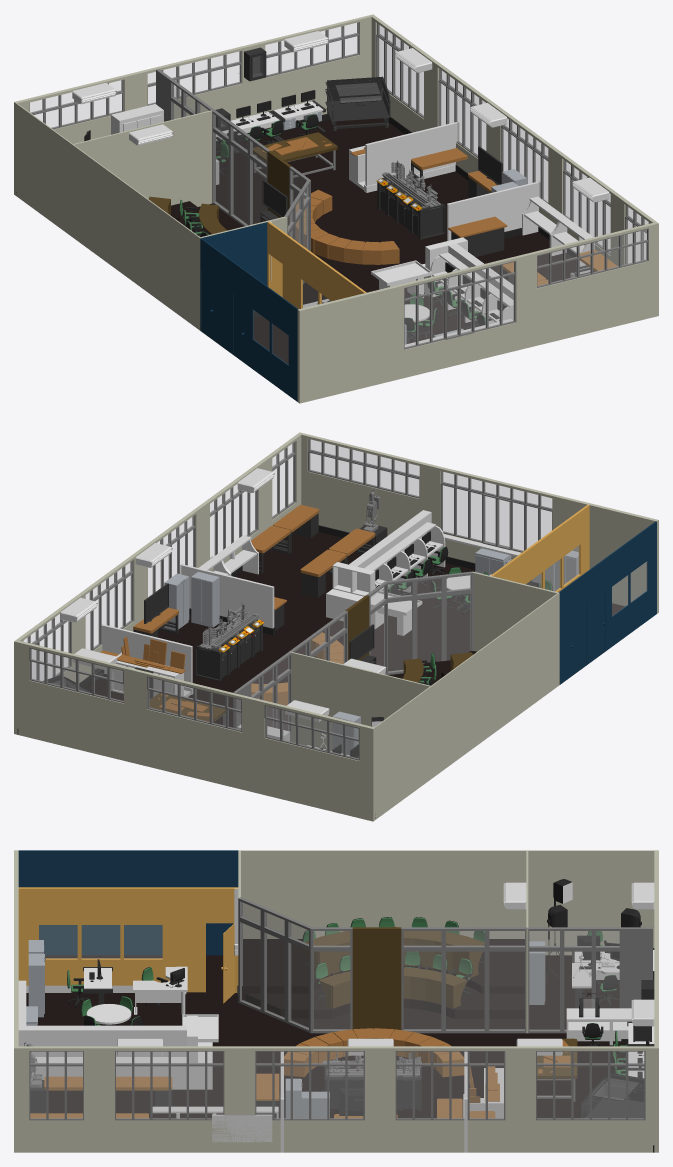
Rendered from Senai Lab v2 - EXPORT.fbx.
The picture shows the model from 3 angles, top to bottom: view 1: azimuth 30°, elevation 25°; view 2: azimuth 150°, elevation 25°; view 3: azimuth 270°, elevation 25°; orthographic projection. The views are drawn at different scales.
Parts seen in each view (by area): view 1: Plano.001, Plano, Plano.021, Plano.017, Plano.045, Plano.004, Plano.018, Plano.019, Plano.032, Plano.022, Plano.023, Plano.050 (+37 smaller); view 2: Plano.001, Plano, Plano.017, Plano.023, Plano.019, Plano.022, Plano.004, Plano.045, Plano.021, Plano.032, Plano.052, Plano.002 (+41 smaller); view 3: Plano.017, Plano.001, Plano, Plano.002, Plano.032, Plano.050, Plano.028, Plano.042, Plano.049, Plano.003, Plano.052, Plano.048 (+44 smaller).
Boxes of the visible parts, box(x1,y1,x2,y2) form: Plano.001: box(14, 102, 200, 330); Plano: box(198, 118, 576, 364); Plano.021: box(366, 254, 526, 386); Plano.017: box(370, 14, 621, 265); Plano.045: box(524, 222, 658, 347); Plano.004: box(73, 110, 287, 328); Plano.018: box(297, 293, 368, 403); Plano.019: box(252, 15, 371, 128); Plano.032: box(200, 238, 298, 401); Plano.022: box(134, 44, 253, 140); Plano.023: box(14, 73, 136, 195); Plano.050: box(214, 115, 266, 224); Plano.001: box(372, 592, 558, 819); Plano: box(85, 532, 624, 730); Plano.017: box(14, 459, 266, 682); Plano.023: box(253, 698, 375, 821); Plano.019: box(14, 640, 136, 763); Plano.022: box(135, 669, 254, 792); Plano.004: box(289, 571, 559, 750); Plano.045: box(298, 432, 431, 535); Plano.021: box(430, 464, 589, 563); Plano.032: box(559, 521, 656, 684); Plano.052: box(388, 575, 470, 671); Plano.002: box(491, 504, 589, 592); Plano.017: box(97, 1046, 658, 1152); Plano.001: box(240, 850, 658, 955); Plano: box(26, 955, 626, 1118); Plano.002: box(18, 887, 238, 992); Plano.032: box(18, 850, 238, 955); Plano.050: box(404, 931, 524, 1029); Plano.028: box(310, 927, 527, 1033); Plano.042: box(18, 1046, 97, 1152); Plano.049: box(529, 931, 619, 1030); Plano.003: box(18, 1025, 186, 1089); Plano.052: box(241, 902, 308, 1028); Plano.048: box(242, 939, 524, 1000).
Size of the model in its own units: 1289 by 1763 by 316.
